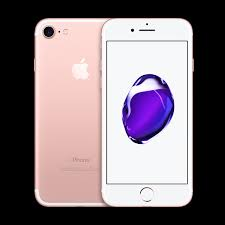iphone: (100, 16, 194, 206), (32, 18, 99, 204)
iphone7: (100, 18, 194, 208)
